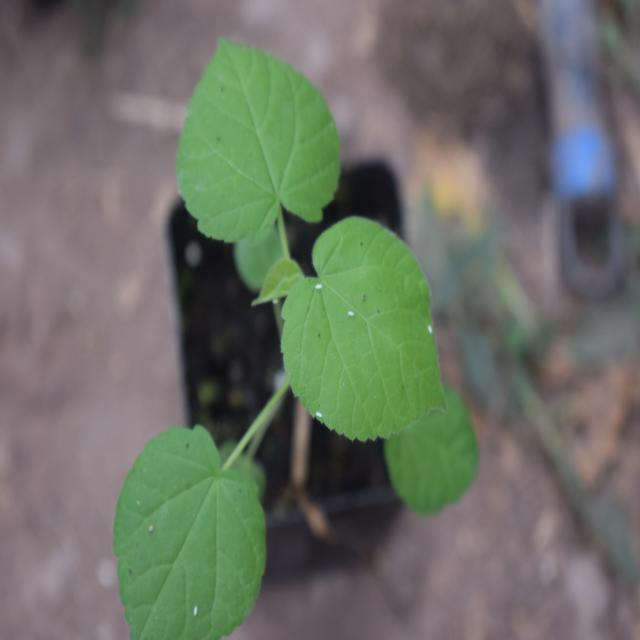abutilon theophrasti: (119, 28, 462, 622)
